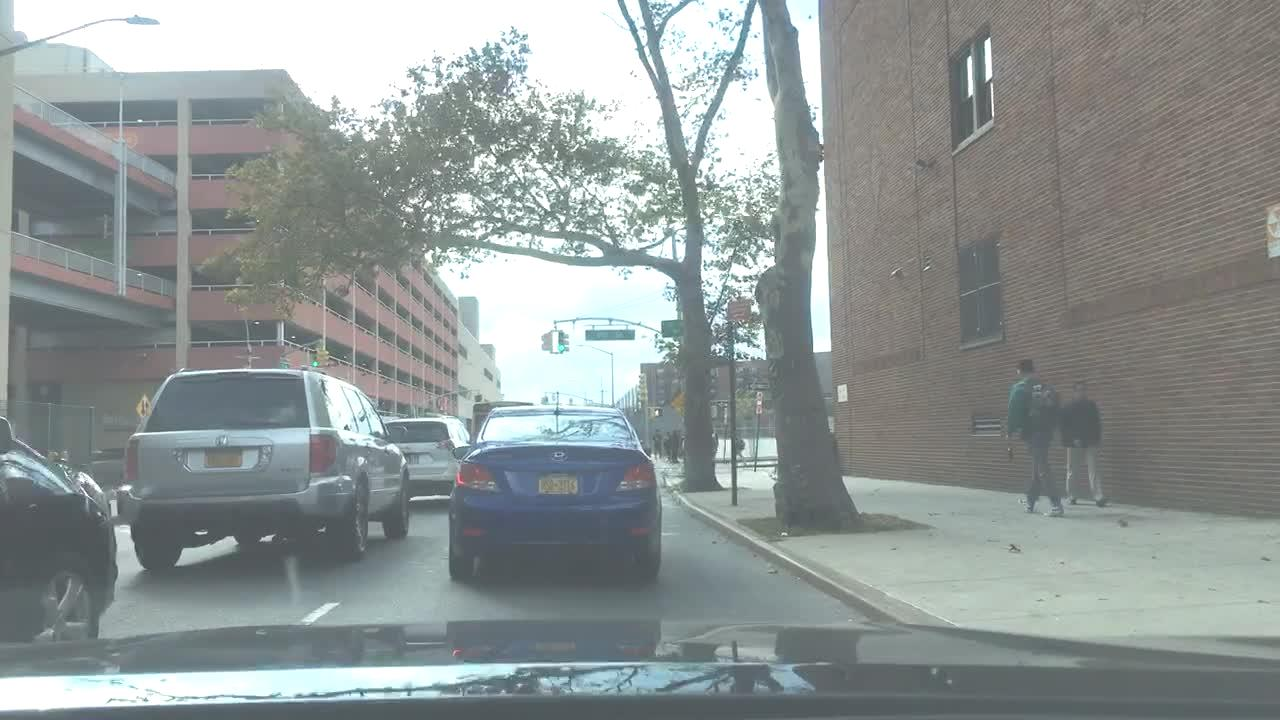Hyundai: (544, 448, 570, 466)
